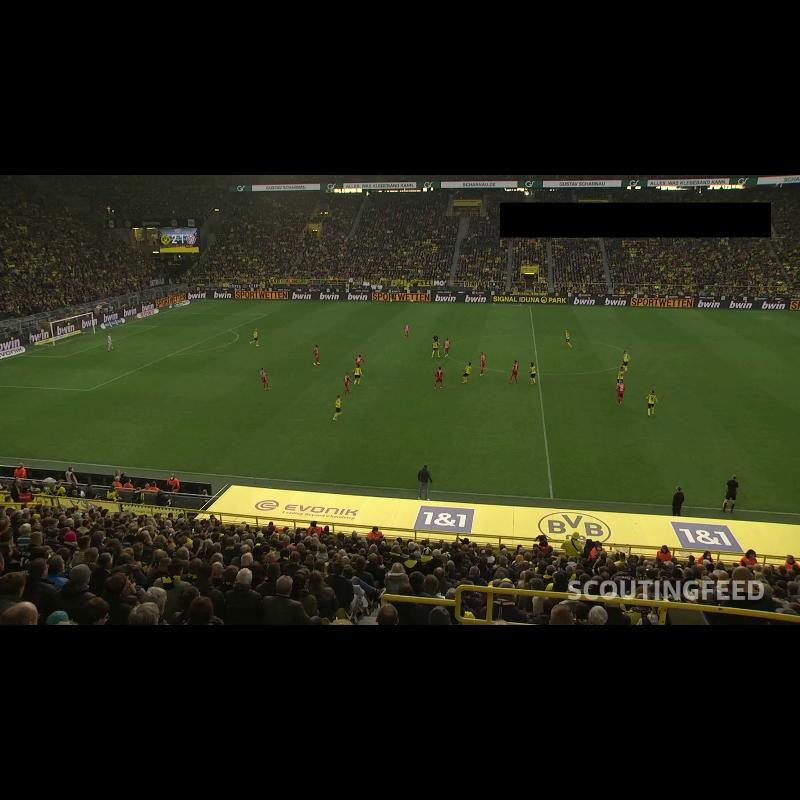cross_recipient_zone: (0, 313, 267, 390)
crossing_player_zone: (0, 385, 187, 463), (164, 301, 347, 315), (725, 311, 800, 330)
pitch: (0, 301, 800, 515)
